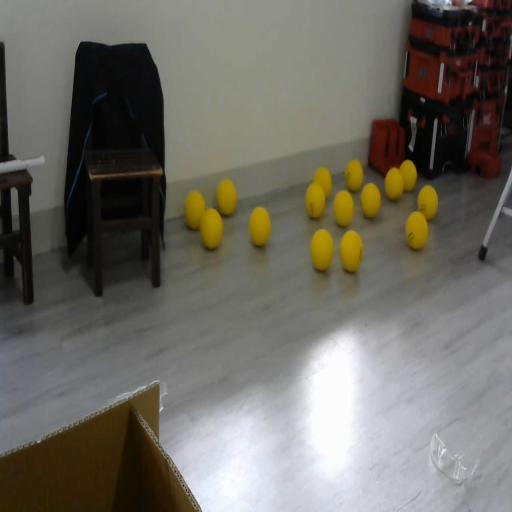FUEL: (338, 228, 364, 272), (310, 227, 334, 271), (199, 206, 223, 250), (248, 206, 272, 248), (405, 210, 428, 250), (184, 190, 206, 230), (333, 190, 354, 227), (216, 179, 237, 216), (360, 182, 381, 218), (417, 185, 438, 220), (313, 166, 332, 200), (344, 160, 364, 192), (399, 160, 417, 192)
